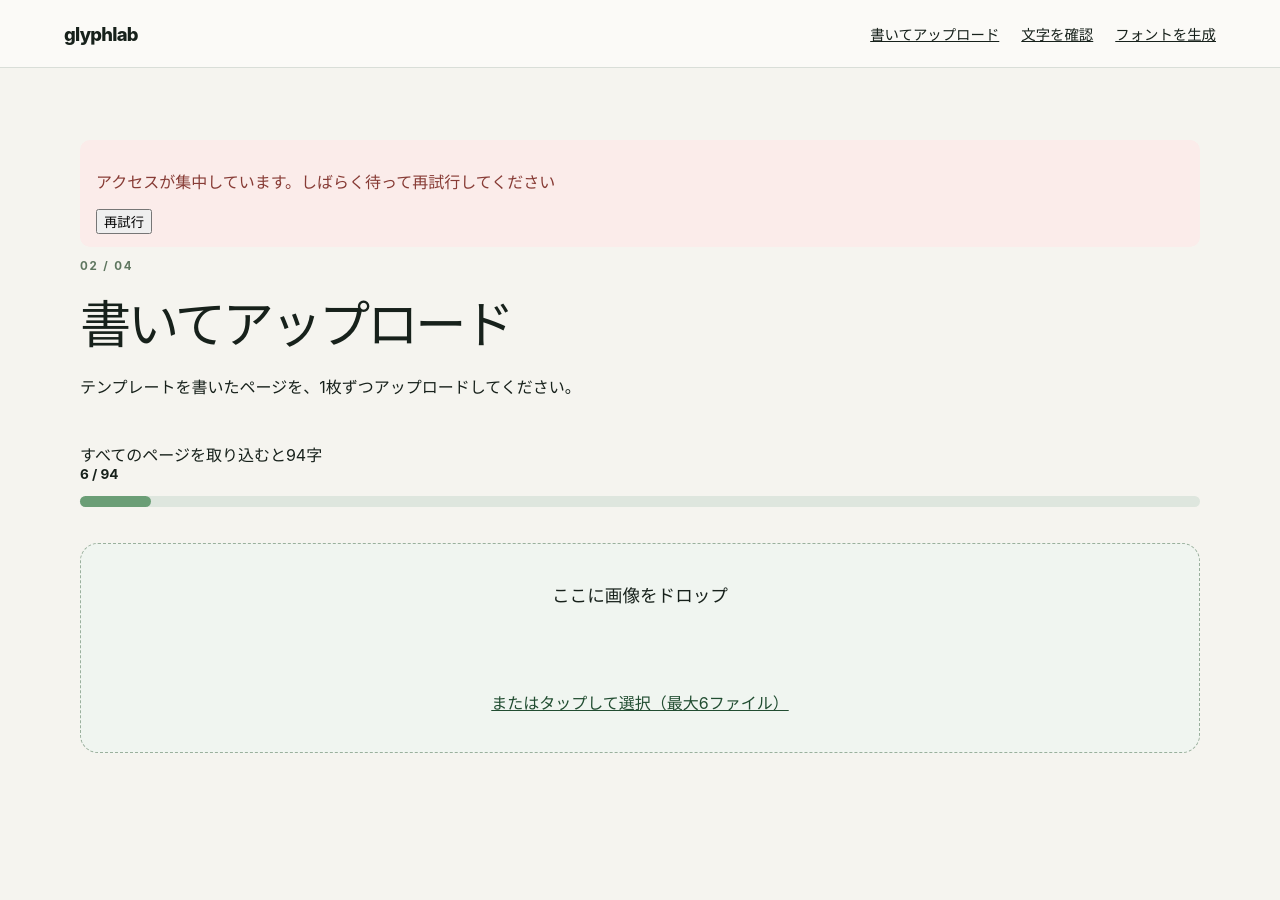
Test: keeps the active project view mounted on background failure (/upload, 429)
Expected: the text "アクセスが集中しています。しばらく待って再試行してください" is shown, [96, 172, 555, 192]
Expected: the button "またはタップして選択（最大6ファイル）" is shown, [485, 688, 795, 714]
Click the button "再試行": (124, 222) [96, 209, 152, 234]
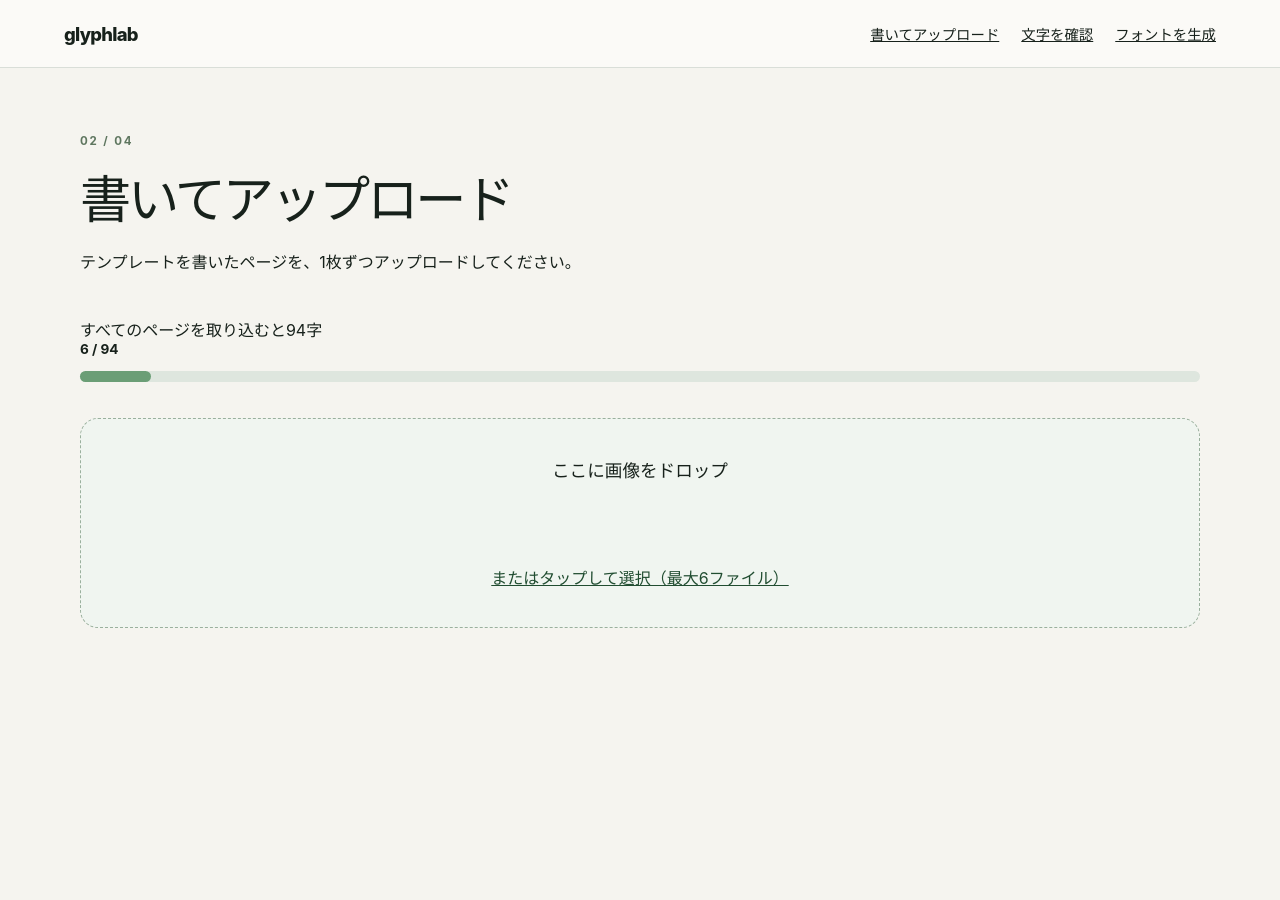
Expected: the button "またはタップして選択（最大6ファイル）" is shown, [485, 564, 795, 590]
Expected: the text "アクセスが集中しています。しばらく待って再試行してください" is gone
